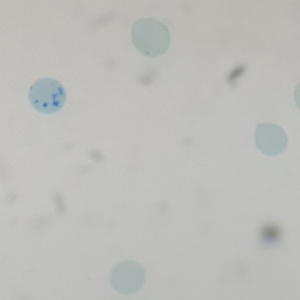aggregate reticulocyte: (27, 77, 67, 116)
erythrocyte: (253, 120, 289, 158)
punctate reticulocyte: (129, 17, 173, 59)
